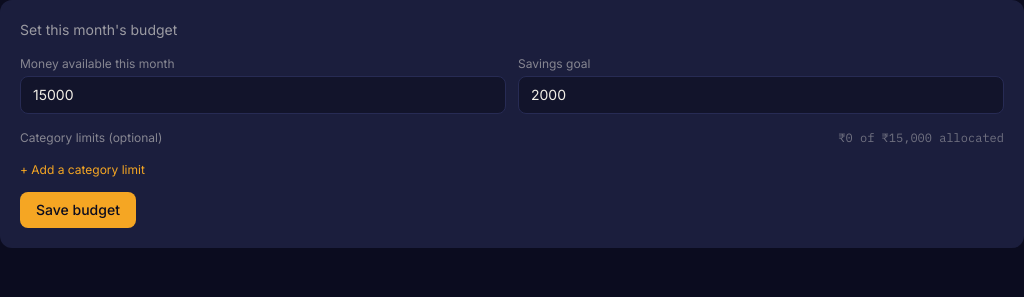
Scenario: BudgetForm › surfaces a server-side rejection instead of failing silently
Click the button "Save budget" at point(78, 210), box [20, 192, 136, 228]
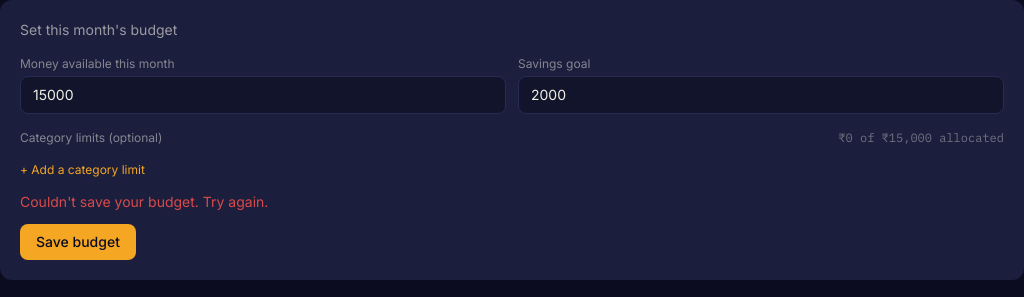
Now the message "Couldn't save your budget. Try again." is shown, box [20, 193, 268, 210]
